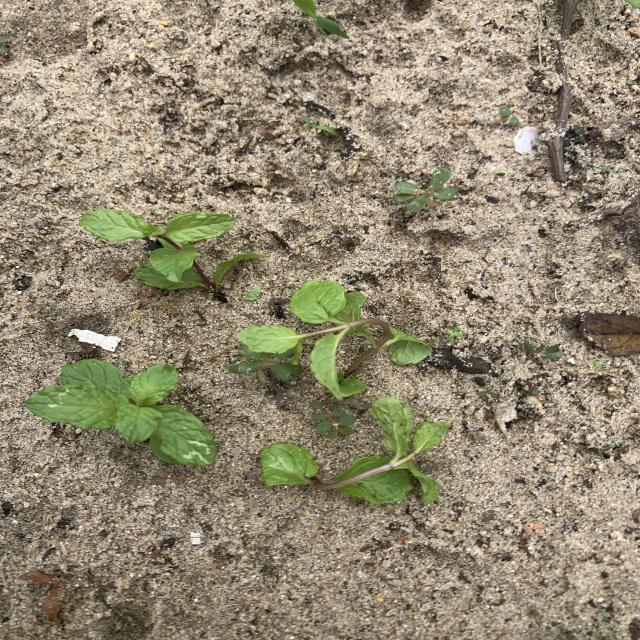crop: (238, 280, 431, 399), (25, 360, 215, 465), (260, 397, 447, 503), (80, 211, 263, 293)
weed: (393, 169, 459, 211), (20, 573, 64, 627), (228, 348, 302, 378), (294, 0, 347, 37), (310, 401, 355, 437), (524, 343, 563, 363), (303, 116, 338, 135), (348, 150, 371, 175), (498, 107, 519, 124), (246, 285, 261, 299), (445, 327, 461, 339), (479, 390, 498, 400), (1, 34, 8, 55), (521, 389, 538, 397), (39, 303, 56, 308), (593, 360, 603, 367)
